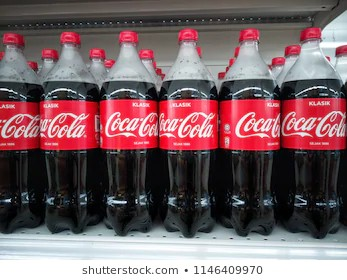coke-bottle-2l: (281, 20, 346, 239), (216, 24, 283, 235), (99, 25, 164, 236), (39, 32, 101, 238), (162, 27, 219, 237), (2, 30, 40, 235)
